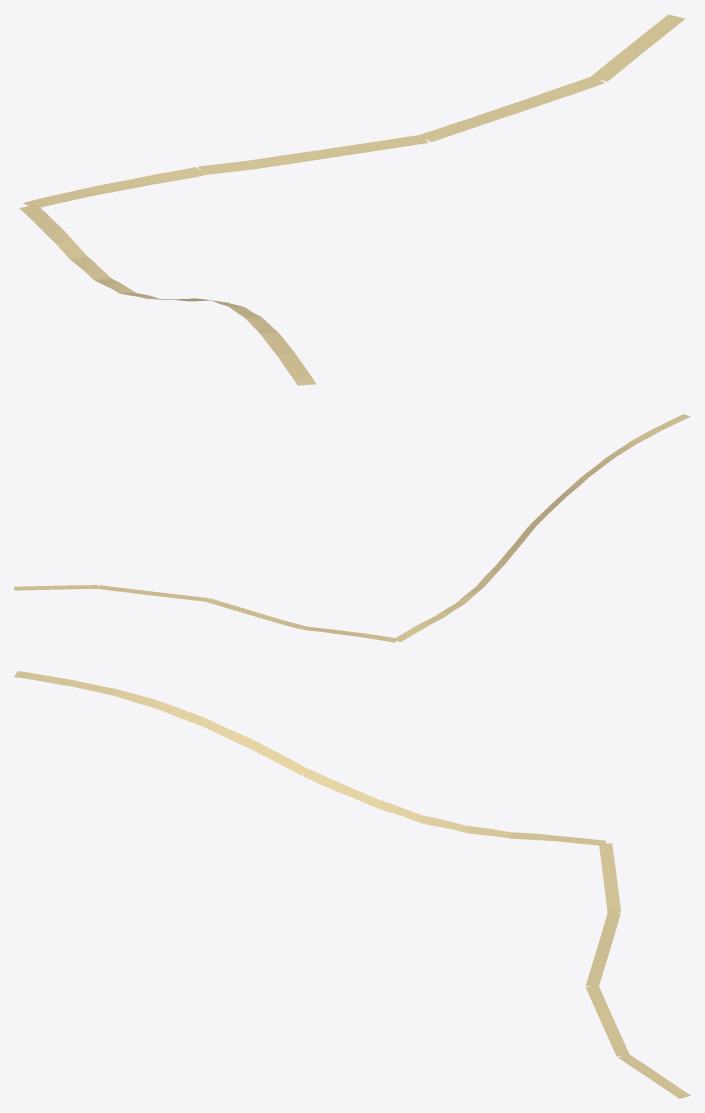
The model's file is Trail_13.glb.
3 renders of one model, top to bottom at view 1: azimuth 30°, elevation 25°; view 2: azimuth 150°, elevation 25°; view 3: azimuth 270°, elevation 25°, orthographic. The views are drawn at different scales.
Visible parts, largest first — view 1: Trail_13; view 2: Trail_13; view 3: Trail_13.
Part boxes in pixels (box(x1,y1,x2,y2)): Trail_13: box(19, 14, 685, 385); Trail_13: box(14, 414, 690, 642); Trail_13: box(14, 671, 690, 1098).
Size of the model in its own units: 89.44 by 19.54 by 87.82.
